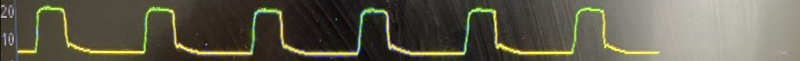normal_pressure: (16, 1, 672, 61)
